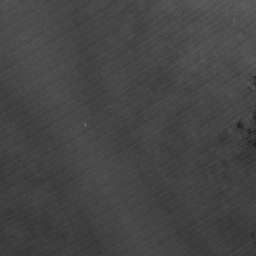Target: (80, 120, 88, 128)
